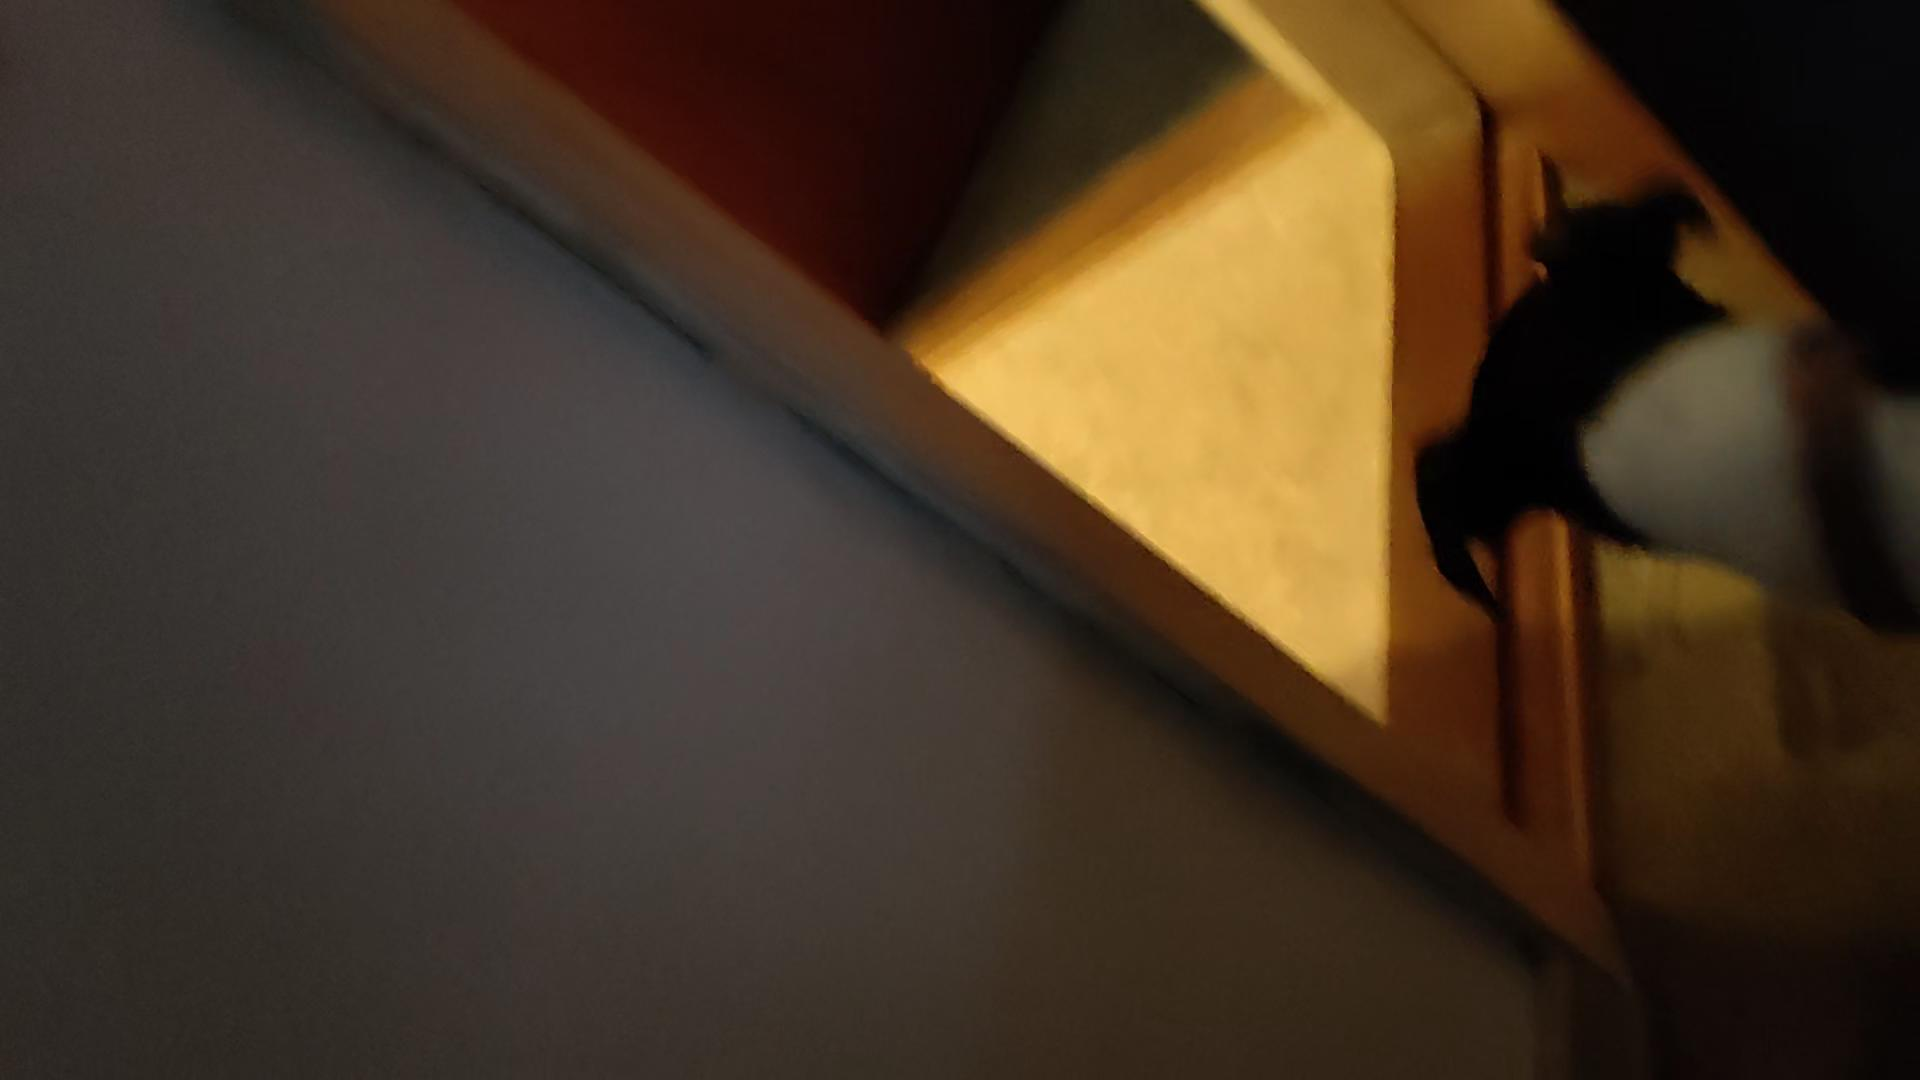Dog: (1371, 166, 1919, 655)
